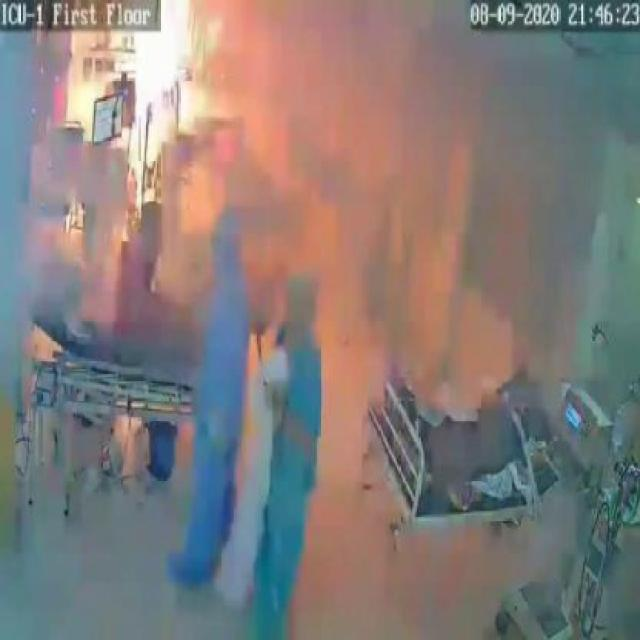fire: (128, 10, 207, 158)
smoke: (279, 18, 598, 234), (322, 240, 600, 386), (5, 125, 114, 368)
